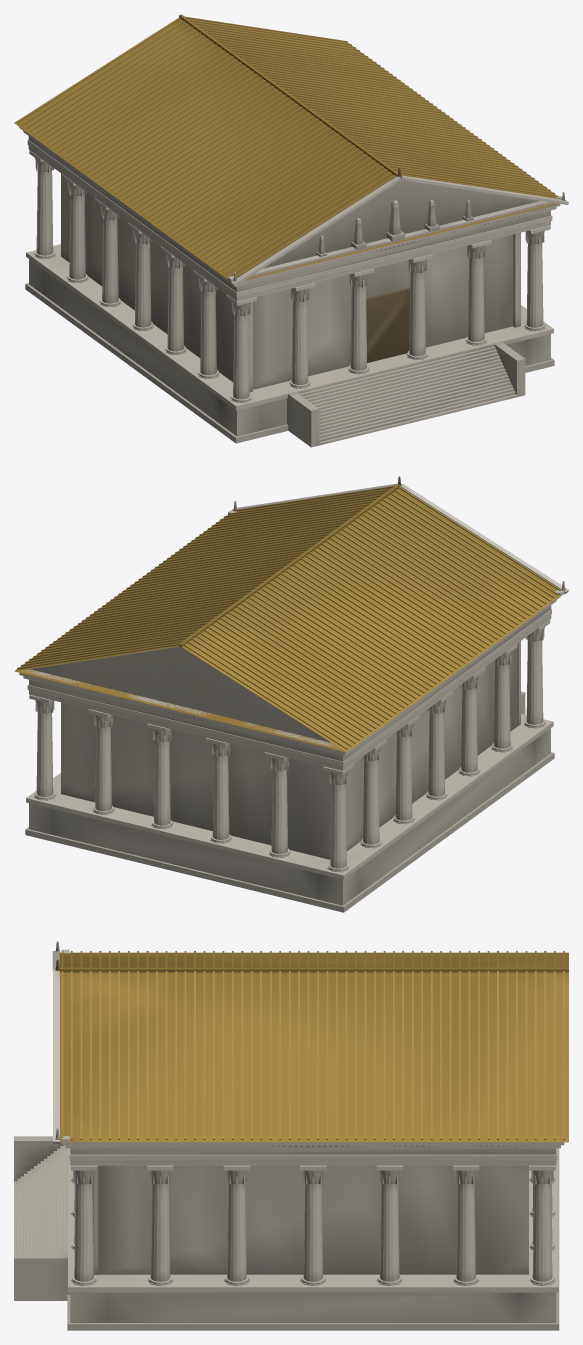
File: temple-of-jupiter.glb
The picture shows the model from 3 angles, top to bottom: view 1: azimuth 30°, elevation 25°; view 2: azimuth 150°, elevation 25°; view 3: azimuth 270°, elevation 25°; orthographic projection. The views are drawn at different scales.
Parts seen in each view (by area): view 1: p2_roof, p1_columns, p0_podium; view 2: p2_roof, p1_columns, p0_podium; view 3: p2_roof, p1_columns, p0_podium.
Part boxes in pixels (x1,y1,x2,y2): p2_roof: (14, 14, 568, 301); p1_columns: (29, 150, 550, 402); p0_podium: (25, 244, 554, 447); p2_roof: (14, 476, 568, 770); p1_columns: (29, 620, 550, 872); p0_podium: (25, 691, 554, 912); p2_roof: (52, 941, 568, 1165); p1_columns: (71, 1165, 555, 1286); p0_podium: (14, 1136, 559, 1330).
Size of the model in its own units: 57.56 by 39.5 by 70.82.
